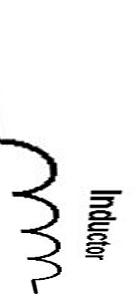inductor: (1, 138, 57, 280)
